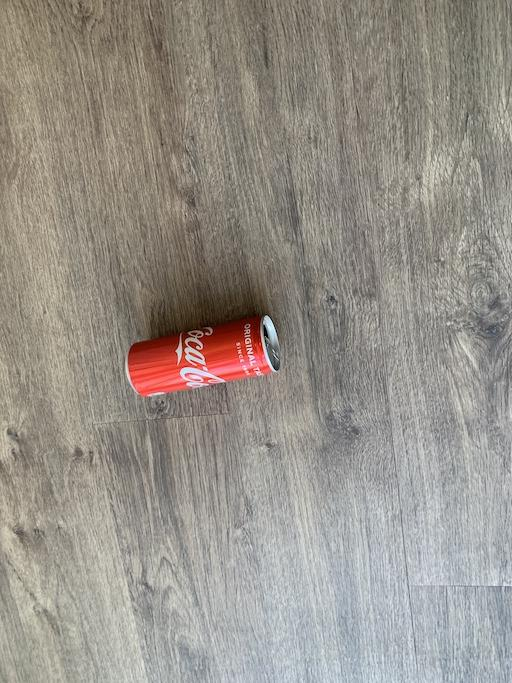Aluminum can: (104, 296, 306, 415)
